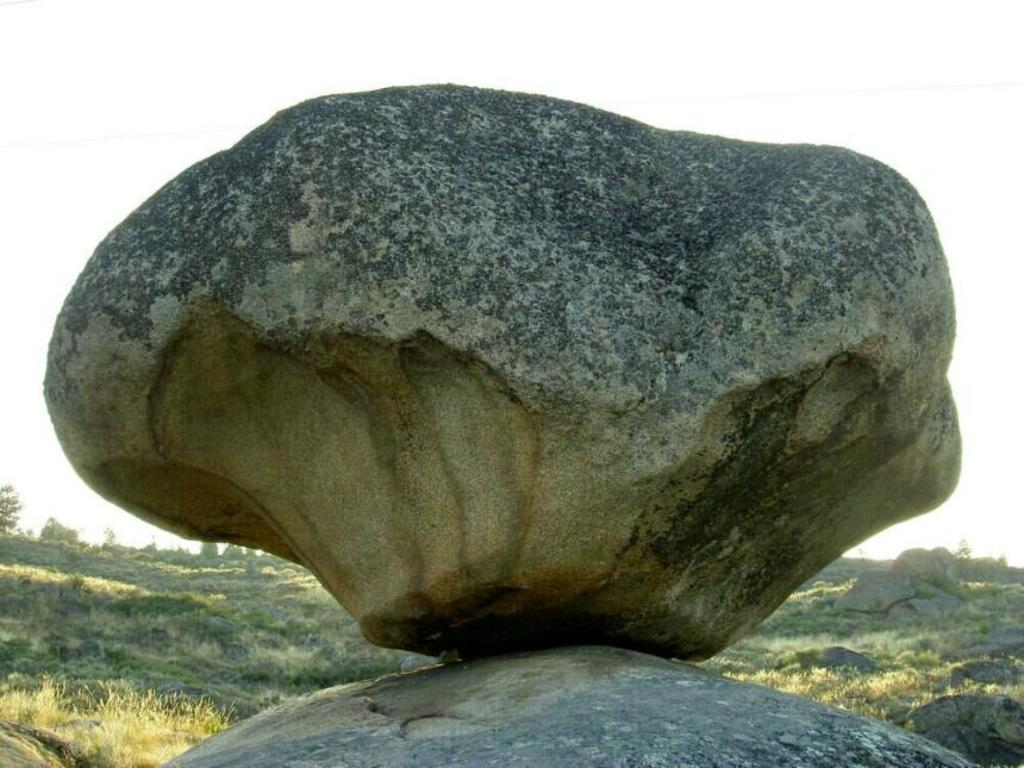Tree: (0, 484, 23, 535)
